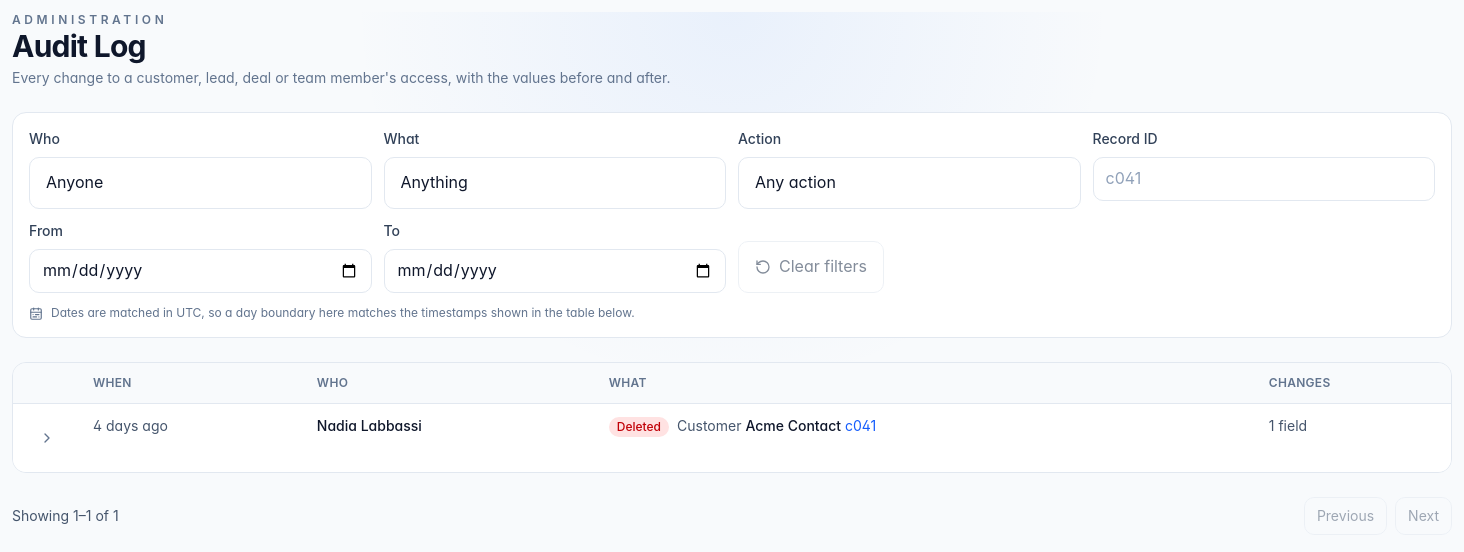
Test: AuditLogPage › renders null on either side as a dash, not as the word null
Click the button named "Show changes". click: [47, 438]
box: [25, 416, 69, 460]
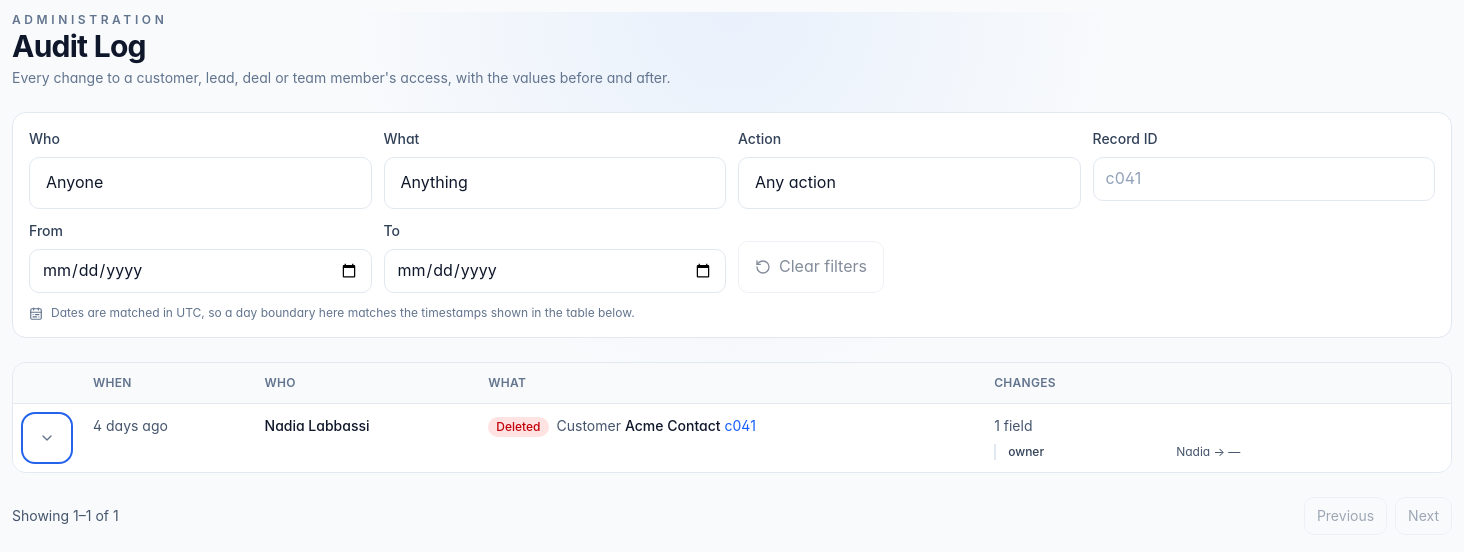
Expected: the text "Nadia → —" is shown, [1176, 444, 1240, 460]
